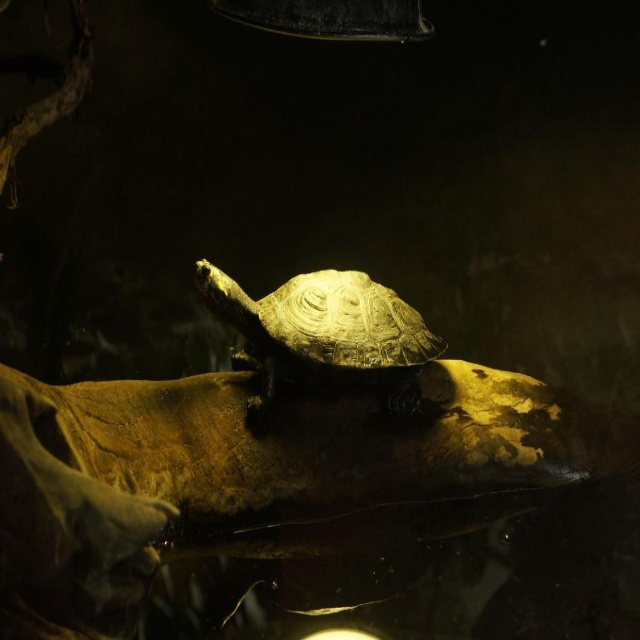Sea turtle: (193, 248, 455, 438)
